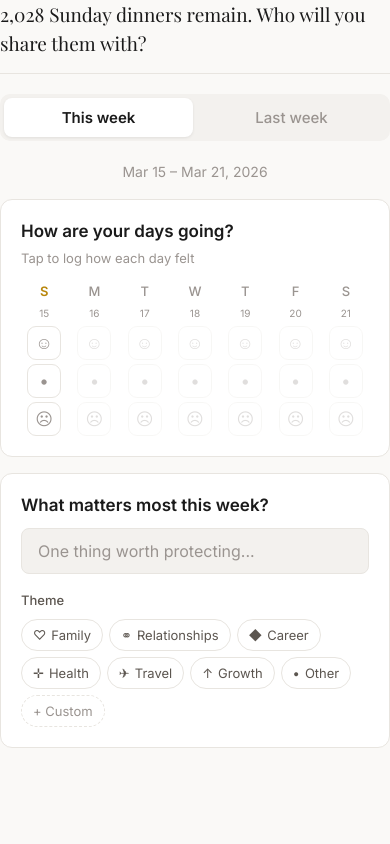
Test case: CheckIn — Last Week view › shows an impression when last week has recorded moods
The image size is (390, 844).
Click the button "Last week".
click(292, 118)  # box [197,98,386,137]
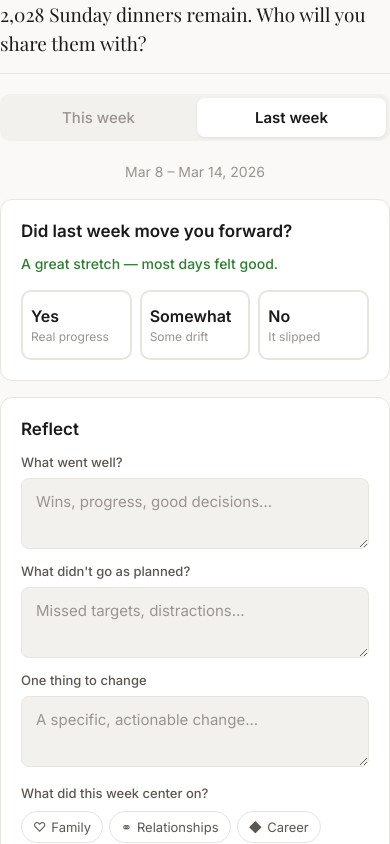
Expected: the text "A great stretch — most days felt good." is shown, [21,256,278,272]
